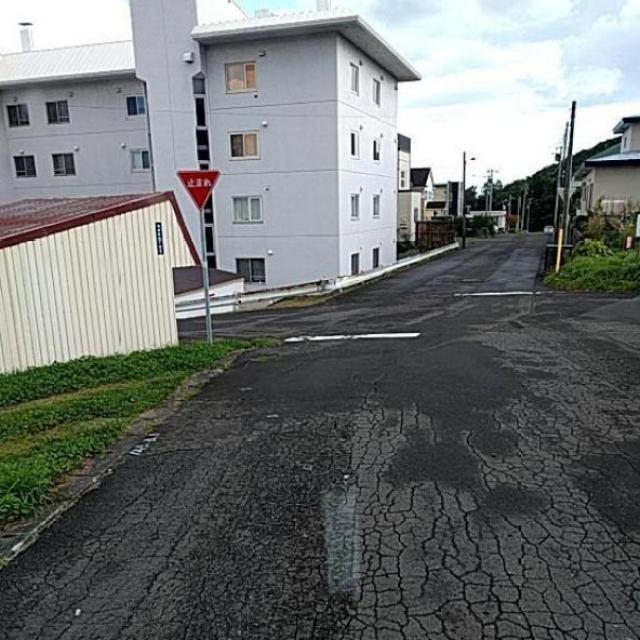Retak Buaya: (353, 455, 640, 640)
